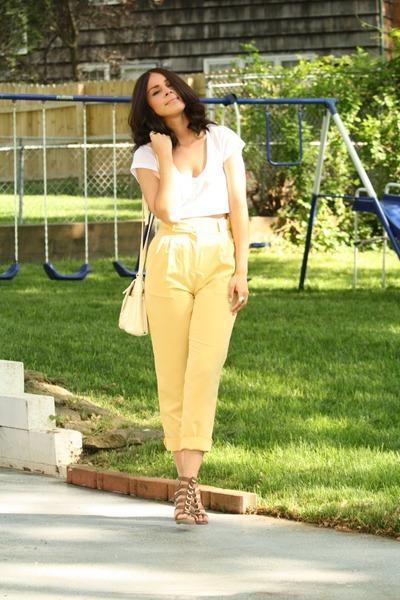bag: (119, 276, 164, 336)
pants: (136, 228, 235, 463)
shirt: (132, 108, 245, 250)
shoe: (163, 474, 207, 524)
